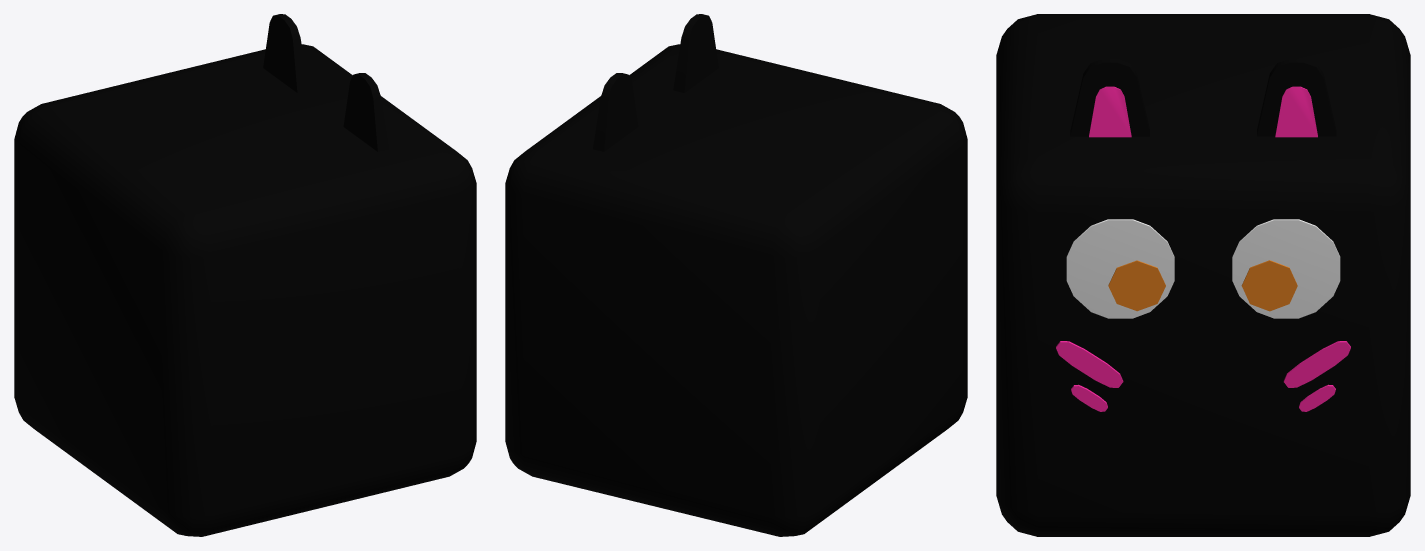
Rendered from BlackBeast.fbx.
3 renders of one model, left to right at view 1: azimuth 30°, elevation 25°; view 2: azimuth 150°, elevation 25°; view 3: azimuth 270°, elevation 25°, orthographic. The views are drawn at different scales.
Parts seen in each view (by area): view 1: Cube.001, Cube.004, Cube; view 2: Cube.001, Cube, Cube.004; view 3: Cube.001, Cylinder, Cylinder.003, Cube, Cube.004, Cylinder.002, Cylinder.001, Cube.002, Cube.003, Cube.005, Cube.008, Cube.006 (+1 smaller).
Part boxes in pixels (bbox=[...]): Cube.001: bbox=[14, 44, 476, 536]; Cube.004: bbox=[263, 14, 308, 92]; Cube: bbox=[343, 73, 388, 151]; Cube.001: bbox=[505, 44, 967, 536]; Cube: bbox=[673, 14, 718, 92]; Cube.004: bbox=[593, 73, 638, 151]; Cube.001: bbox=[996, 14, 1410, 536]; Cylinder: bbox=[1232, 219, 1340, 318]; Cylinder.003: bbox=[1066, 219, 1174, 318]; Cube: bbox=[1070, 59, 1149, 136]; Cube.004: bbox=[1257, 59, 1336, 136]; Cylinder.002: bbox=[1108, 260, 1165, 311]; Cylinder.001: bbox=[1241, 260, 1297, 311]; Cube.002: bbox=[1089, 86, 1131, 137]; Cube.003: bbox=[1275, 86, 1317, 137]; Cube.005: bbox=[1283, 341, 1350, 387]; Cube.008: bbox=[1056, 341, 1123, 387]; Cube.006: bbox=[1299, 384, 1335, 411].
Bounding box in the file's own units: 203 × 238 × 200.
